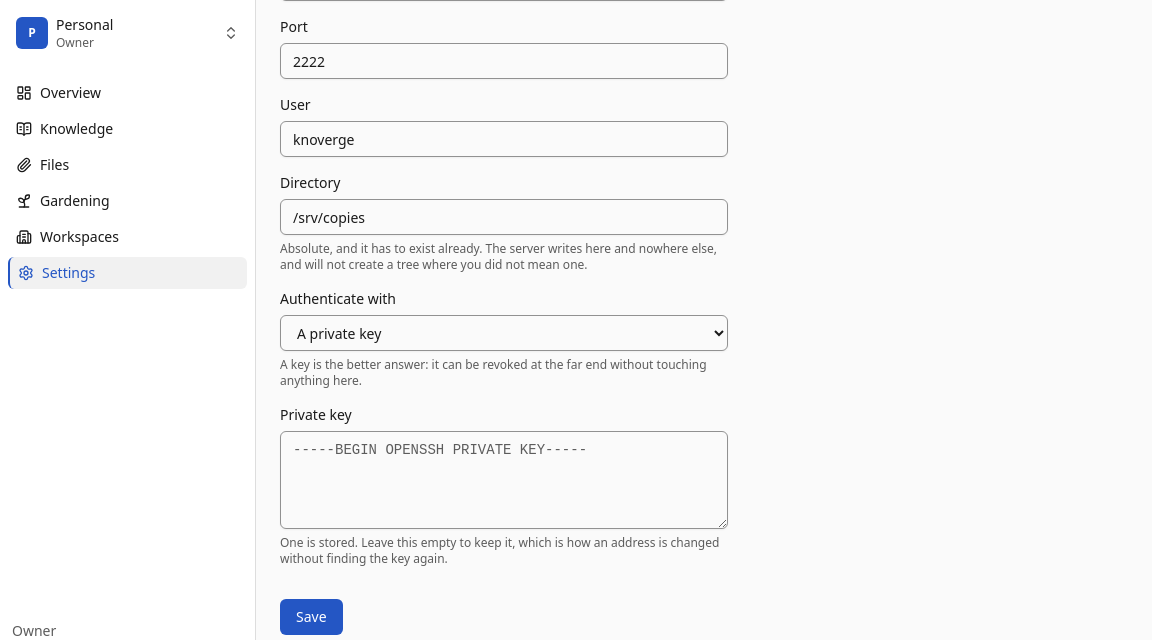
Test: naming the second machine › says a new credential is needed when the kind changes
The width and height of the screenshot is (1152, 640).
(page scrolled)
Check: the text "One is stored" is shown, box [280,534,719,567]
Select "A password" in the dropdown labelled "Authenticate with" at (504, 333), box [280,315,728,351]
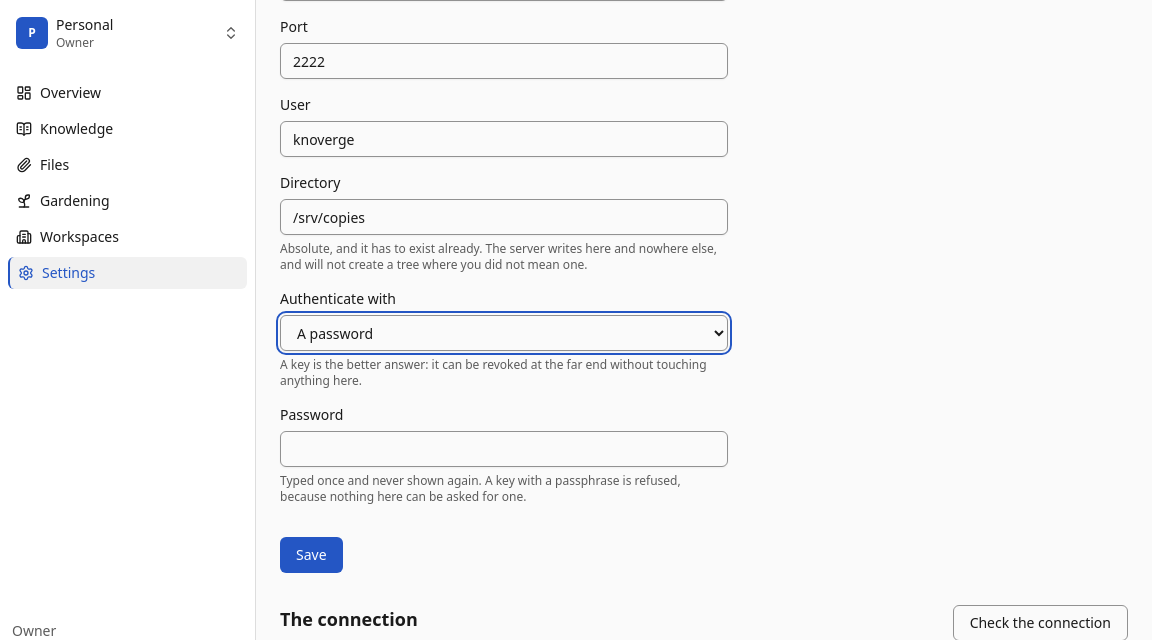
Check: the text "Typed once and never shown again" is shown, box [280,472,681,505]
Check: the text "One is stored" is gone
